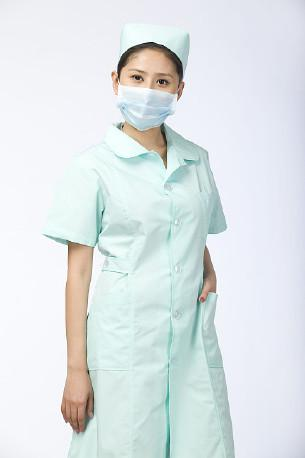OK: (116, 62, 186, 132)
